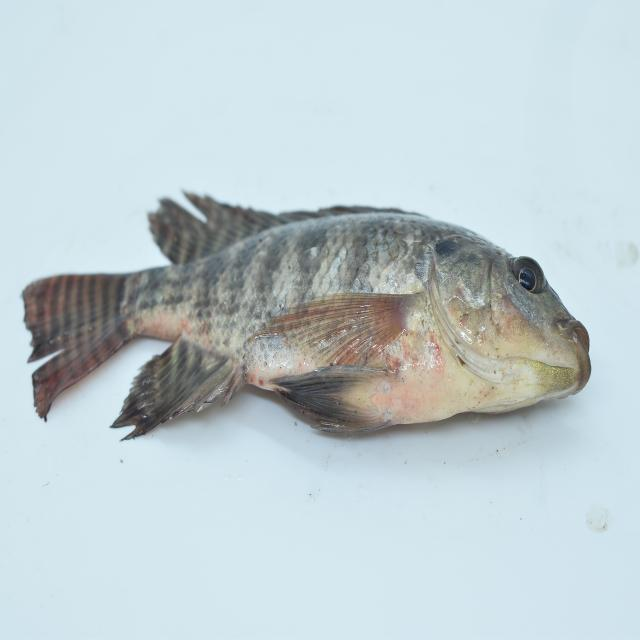Columnaris Disease: (9, 176, 609, 481)
